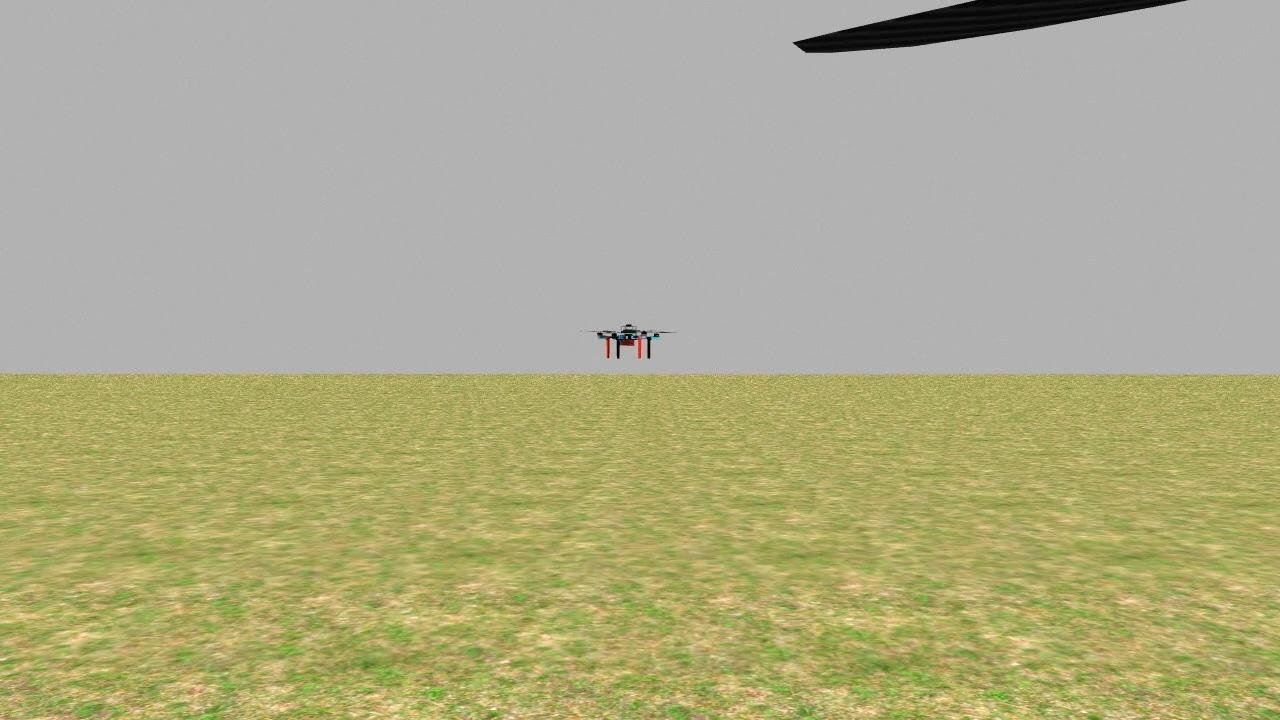UAV: (585, 312, 669, 364)
